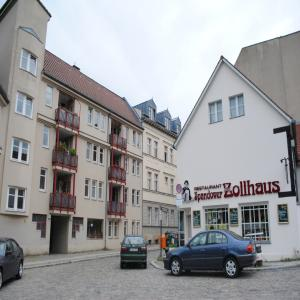Vehicle-registration-plate: (130, 249, 139, 253)
